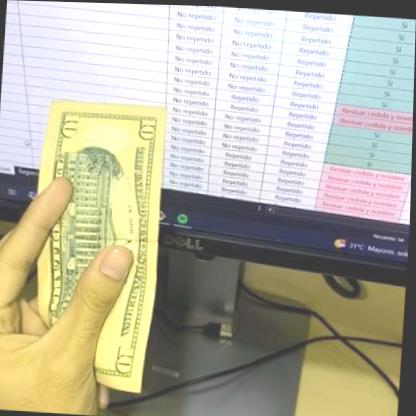ten-back: (19, 92, 172, 399)
